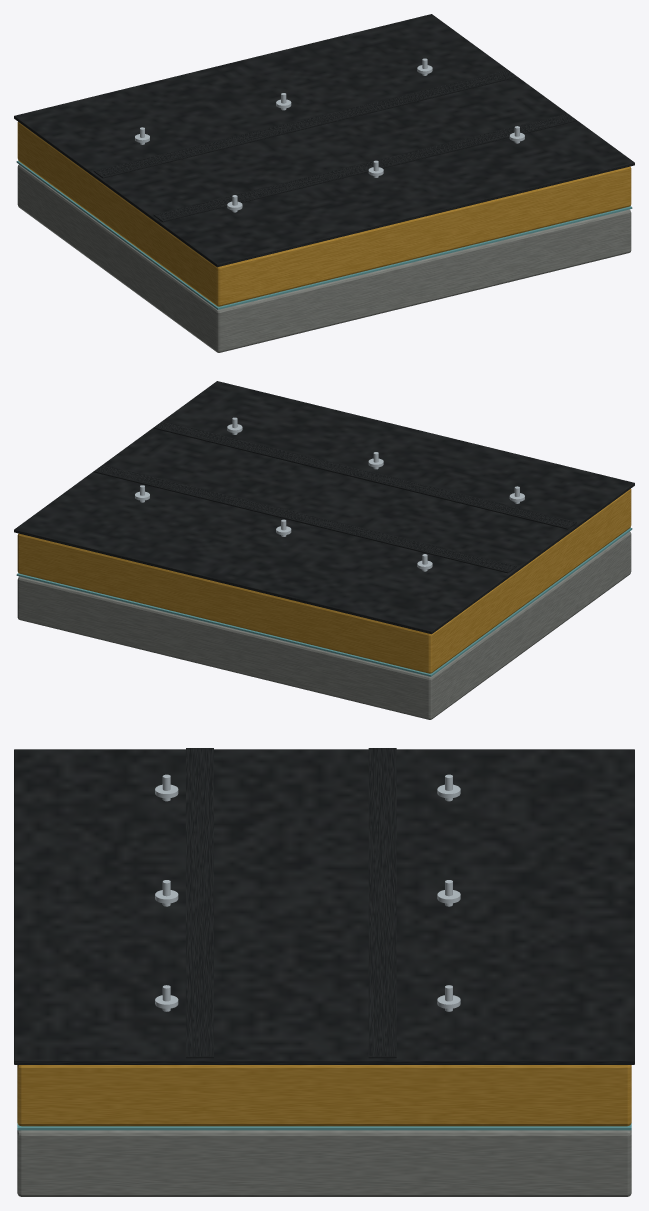
Rendered from modell.glb.
The picture shows the model from 3 angles, top to bottom: view 1: azimuth 30°, elevation 25°; view 2: azimuth 150°, elevation 25°; view 3: azimuth 270°, elevation 25°; orthographic projection. The views are drawn at different scales.
Visible parts, largest first — view 1: g05-abdichtung_deckung, g05-untergrund_tragwerk, g05-daemmung_daemmung, g05-naht_deckung, g05-luftdichtheit_luftdichtheit, g05-halter_deckung; view 2: g05-abdichtung_deckung, g05-untergrund_tragwerk, g05-daemmung_daemmung, g05-naht_deckung, g05-luftdichtheit_luftdichtheit, g05-halter_deckung; view 3: g05-abdichtung_deckung, g05-untergrund_tragwerk, g05-daemmung_daemmung, g05-naht_deckung, g05-luftdichtheit_luftdichtheit, g05-halter_deckung, g05-anker_tragwerk.
Part boxes in pixels (box(x1,y1,x2,y2)): g05-abdichtung_deckung: box(14, 14, 634, 267); g05-untergrund_tragwerk: box(17, 164, 631, 352); g05-daemmung_daemmung: box(17, 122, 631, 306); g05-naht_deckung: box(93, 69, 576, 222); g05-luftdichtheit_luftdichtheit: box(16, 160, 632, 309); g05-halter_deckung: box(135, 65, 524, 210); g05-abdichtung_deckung: box(14, 381, 634, 634); g05-untergrund_tragwerk: box(17, 531, 631, 719); g05-daemmung_daemmung: box(17, 489, 631, 673); g05-naht_deckung: box(93, 421, 576, 573); g05-luftdichtheit_luftdichtheit: box(16, 527, 632, 676); g05-halter_deckung: box(135, 424, 524, 569); g05-abdichtung_deckung: box(14, 749, 634, 1064); g05-untergrund_tragwerk: box(17, 1130, 631, 1196); g05-daemmung_daemmung: box(17, 1065, 631, 1126); g05-naht_deckung: box(186, 748, 396, 1058); g05-luftdichtheit_luftdichtheit: box(17, 1123, 631, 1130); g05-halter_deckung: box(155, 784, 460, 1008); g05-anker_tragwerk: box(162, 774, 452, 1011).
Bounding box in the file's own units: 2.22 × 0.54 × 1.87.
Materials: 5 (3 with a texture image).
